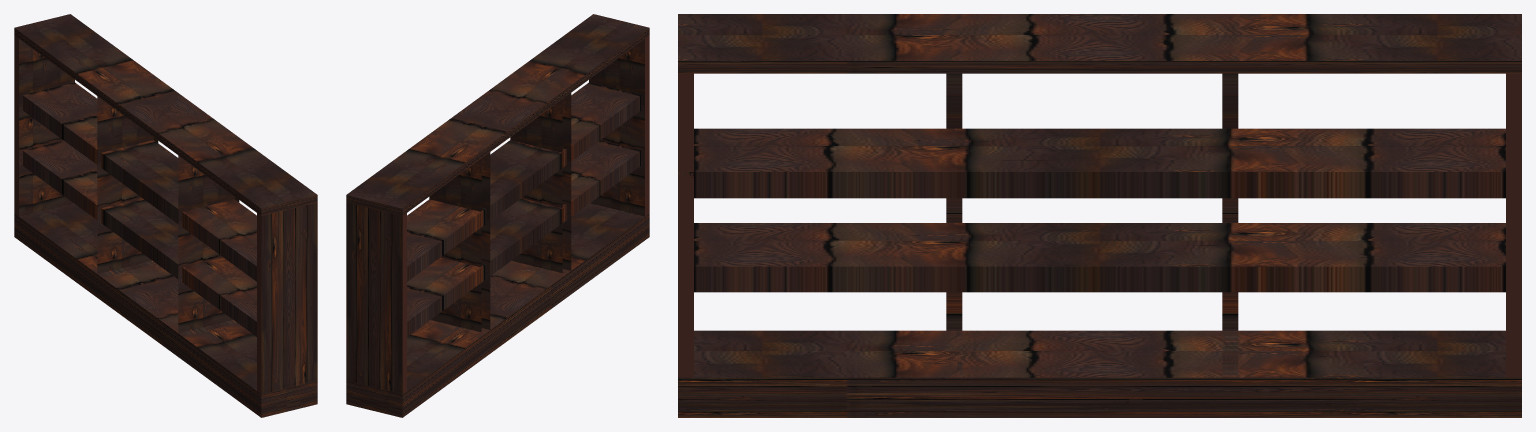
File: estant.obj
3 renders of one model, left to right at view 1: azimuth 30°, elevation 25°; view 2: azimuth 150°, elevation 25°; view 3: azimuth 270°, elevation 25°, orthographic. The views are drawn at different scales.
Parts seen in each view (by area): view 1: Cube.001; view 2: Cube.001; view 3: Cube.001.
Part boxes in pixels (left/top/right/bottom): Cube.001: left=14, top=14, right=317, bottom=417; Cube.001: left=346, top=14, right=649, bottom=417; Cube.001: left=678, top=14, right=1521, bottom=417.
Bounding box in the file's own units: 1.68 × 5.97 × 12.79.
1 material, 1 textured.
